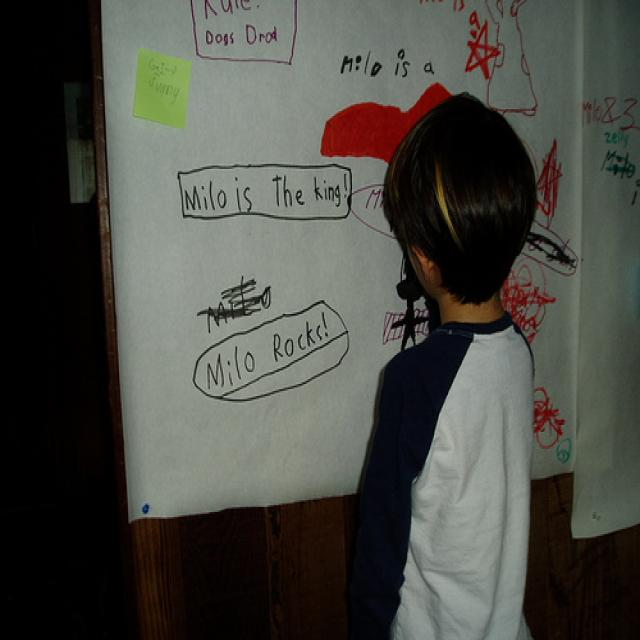person: (338, 88, 541, 639)
